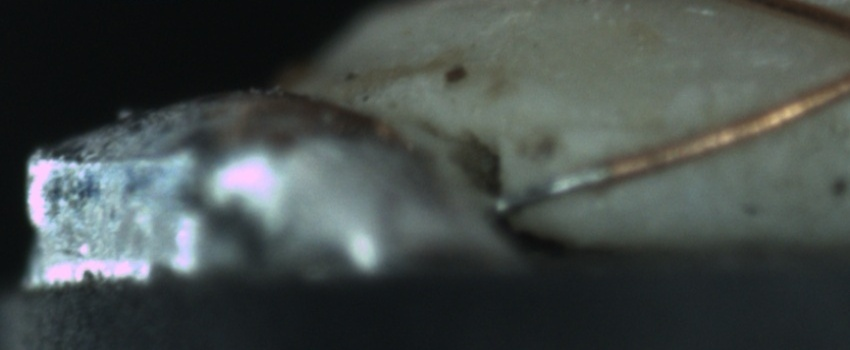DL: (540, 100, 674, 156)
TS: (492, 164, 610, 214)
